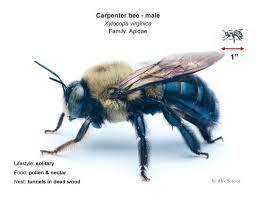Xylocopa: (32, 45, 233, 178)
